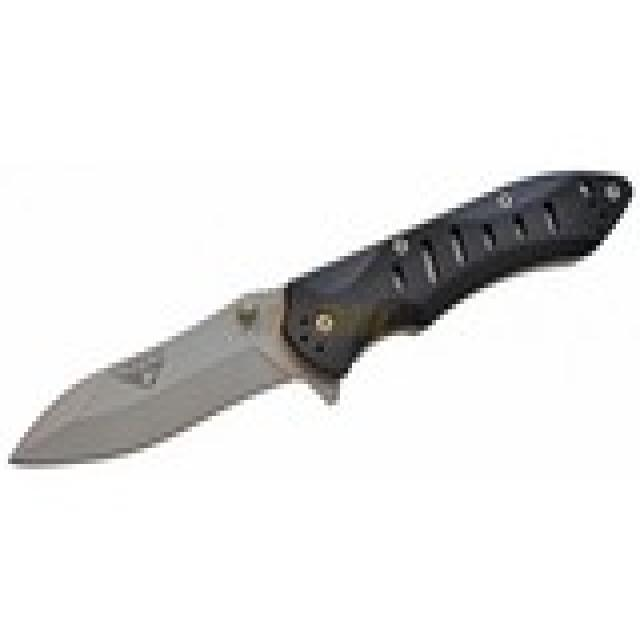Knife: (3, 162, 638, 476)
